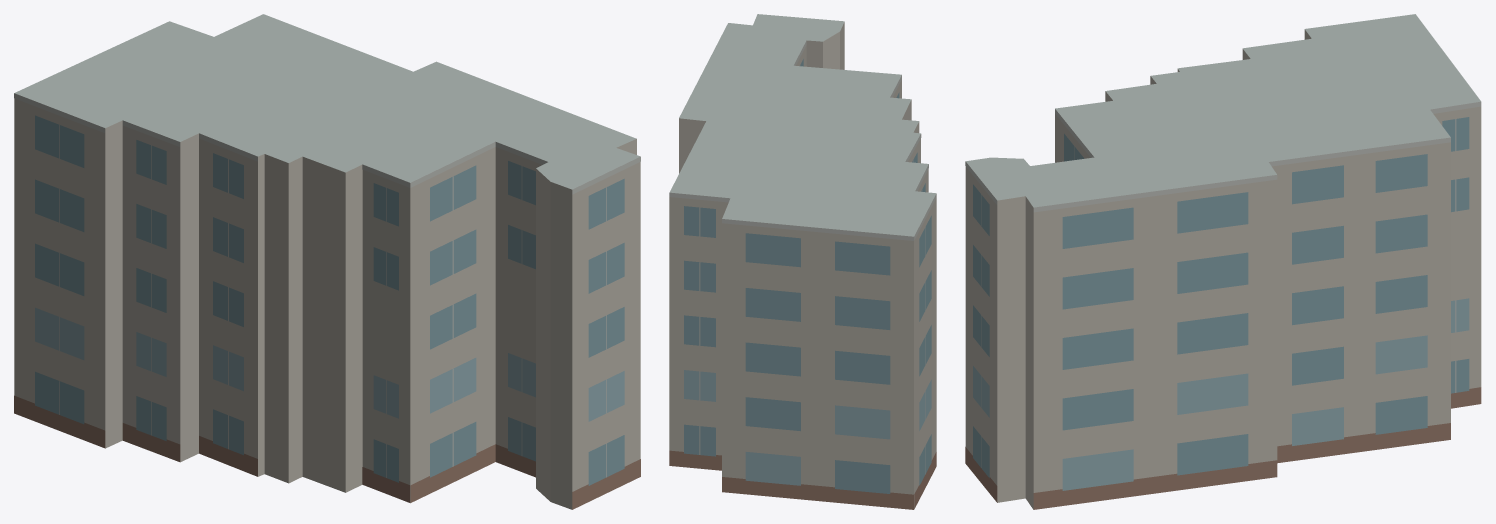
Rendered from survey-upis-32585118.glb.
The picture shows the model from 3 angles, left to right: view 1: azimuth 30°, elevation 25°; view 2: azimuth 150°, elevation 25°; view 3: azimuth 270°, elevation 25°; orthographic projection. The views are drawn at different scales.
Parts seen in each view (by area): view 1: survey-upis-32585118.tmp; view 2: survey-upis-32585118.tmp; view 3: survey-upis-32585118.tmp.
Part boxes in pixels (x1,y1,x2,y2): survey-upis-32585118.tmp: (14, 14, 640, 509); survey-upis-32585118.tmp: (669, 14, 936, 509); survey-upis-32585118.tmp: (965, 14, 1481, 509).
Size of the model in its own units: 20.88 by 15.2 by 23.52.
